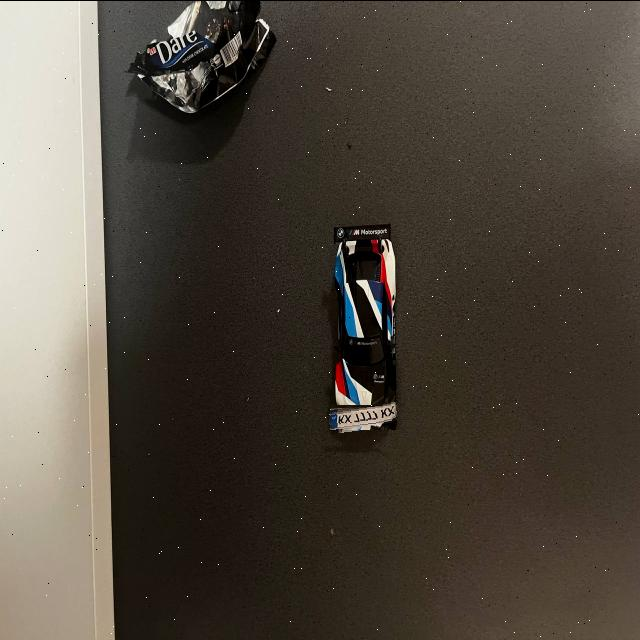KX 7777 KX: (326, 401, 400, 428)
